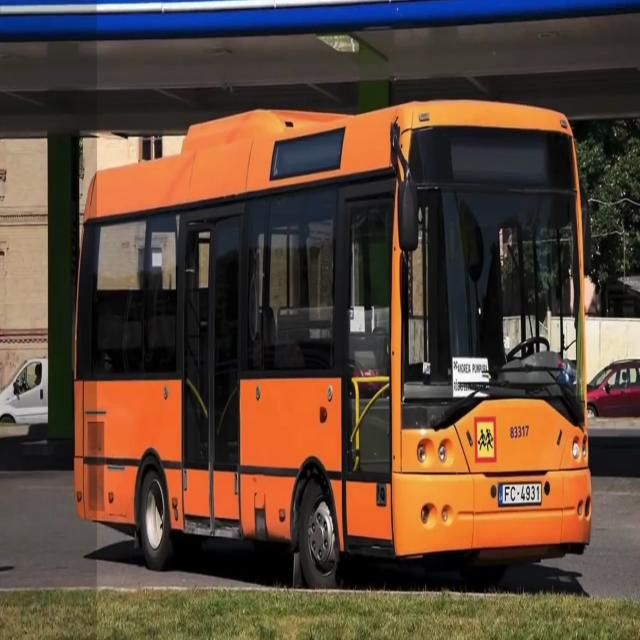bus: (67, 91, 601, 600)
